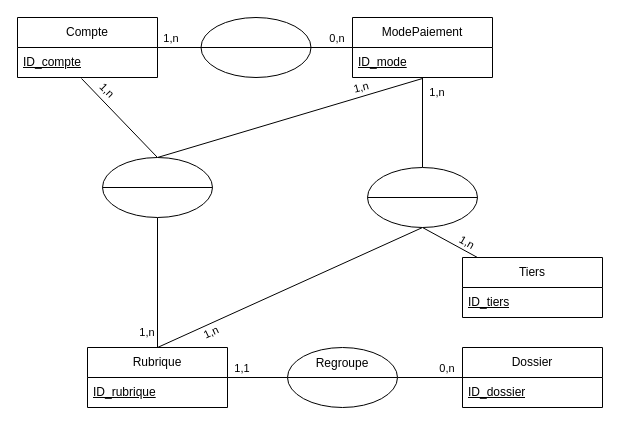
Image size: 620x425. Some labels were removed from this diagram. Each missing label, with the centre of its shape:
Dispose: (x=255, y=47)
RéaliseMvtExterne: (x=422, y=197)
RéaliseMvtInterne: (x=157, y=187)
